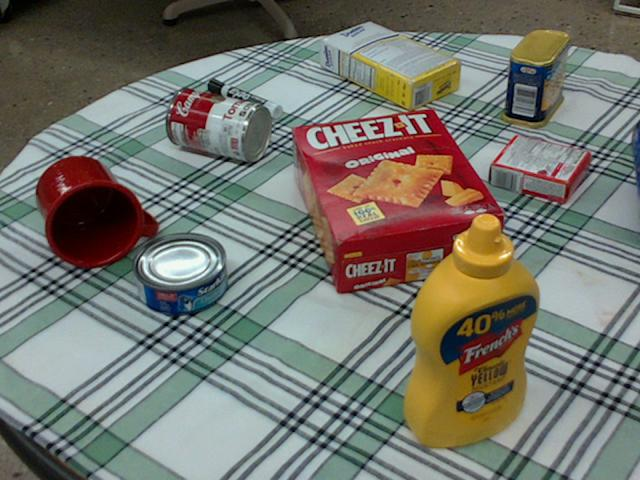cracker_box: (294, 108, 505, 290)
gelatin_box: (488, 135, 587, 200)
large_marker: (206, 79, 280, 117)
master_chef_can: (627, 115, 639, 205)
mug: (34, 155, 154, 267)
mustard_bottle: (405, 211, 542, 445)
potted_meat_can: (500, 30, 567, 127)
sugar_box: (320, 22, 462, 109)
tomato_soup_can: (164, 86, 271, 160)
tuna_fish_can: (129, 232, 226, 314)
